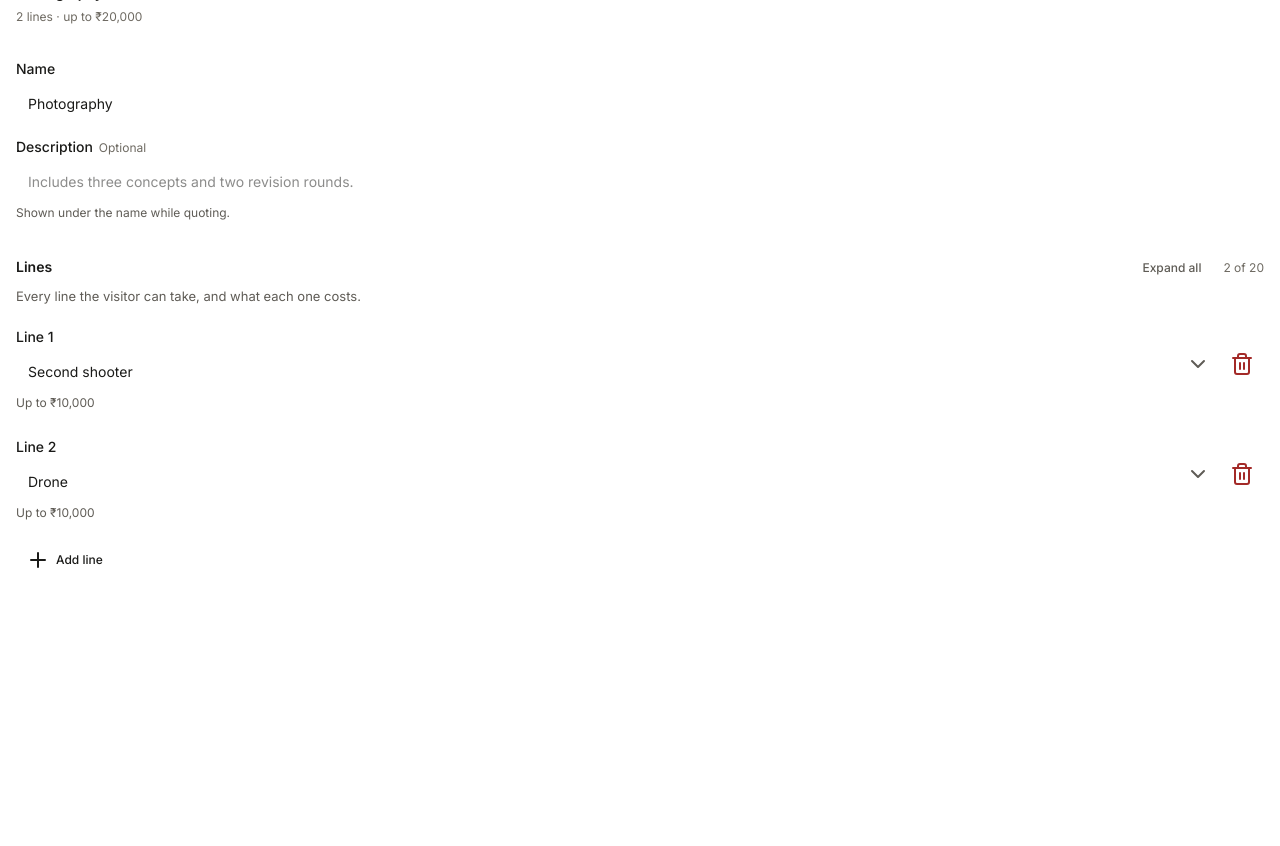
it: ServiceEditor lines › expands one line without touching the others
Click the button named "expand line 1".
click(1198, 364)  # box left=1184, top=350, right=1212, bottom=378
(page scrolled)
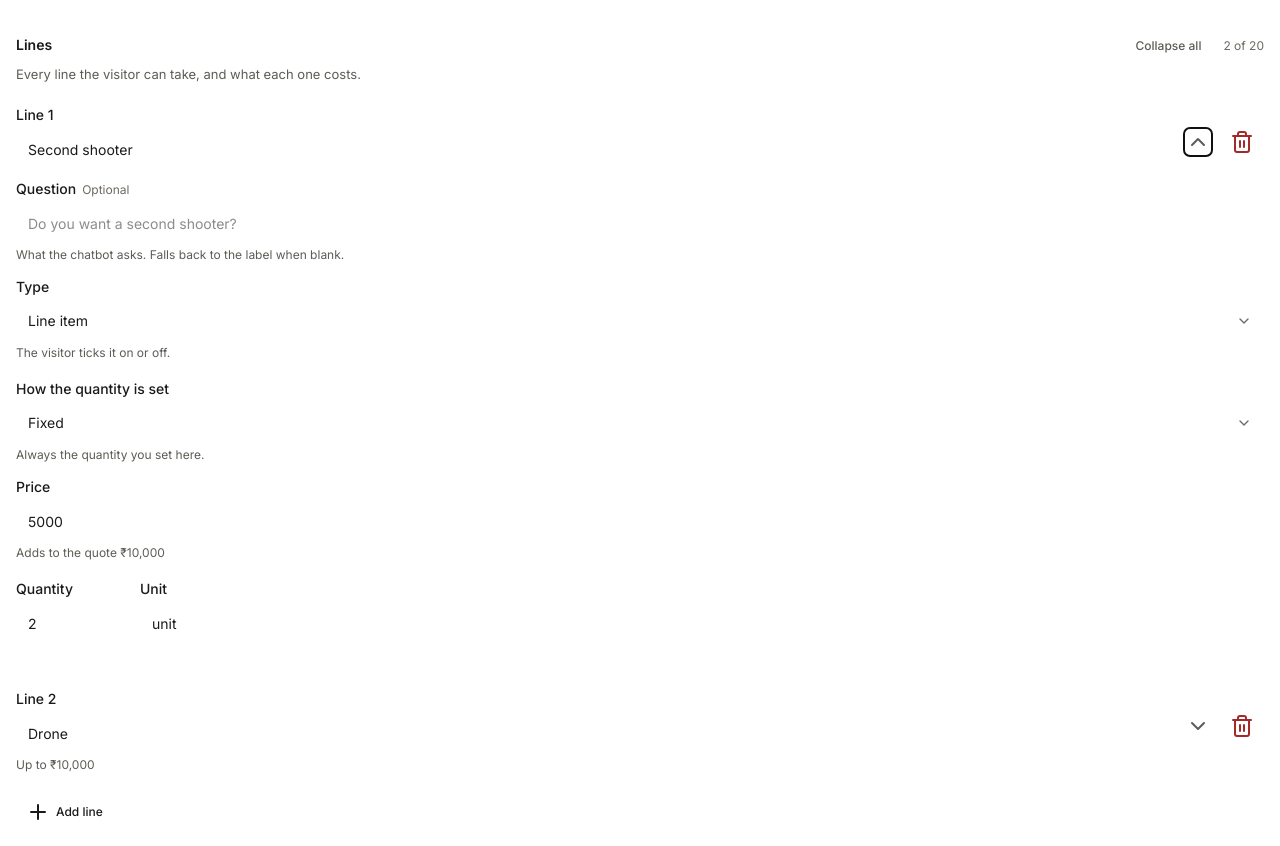
Check: the button named "expand line 2" is shown, box left=1184, top=712, right=1212, bottom=740
Check: the field labelled "Question" is shown, box left=16, top=206, right=1264, bottom=240
